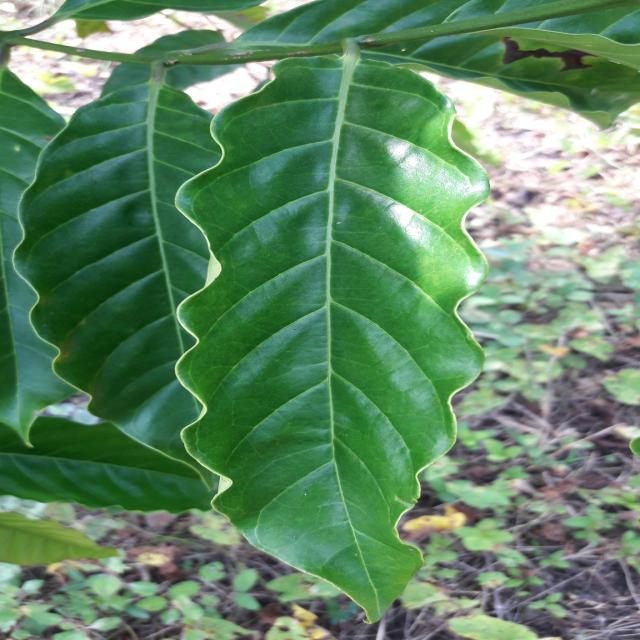Sanas: (173, 57, 491, 624)
